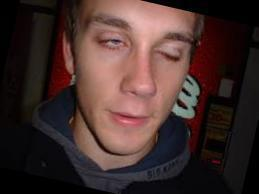Drunk: (81, 4, 177, 151)
